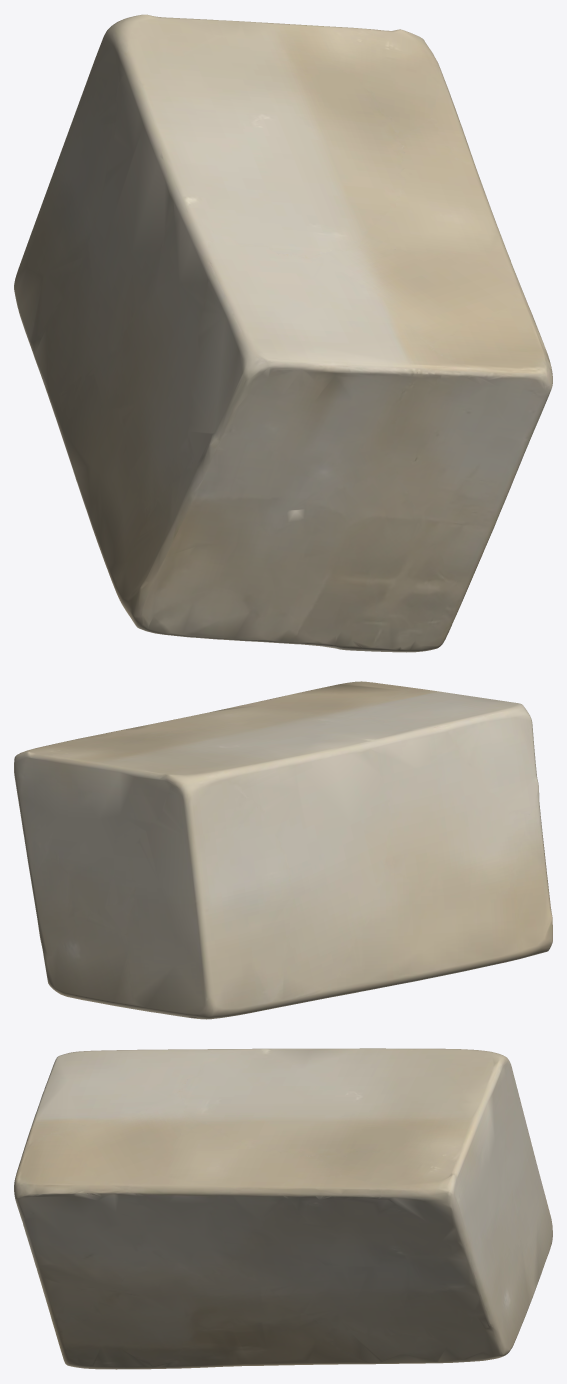
Rendered from calcite.glb.
The picture shows the model from 3 angles, top to bottom: view 1: azimuth 30°, elevation 25°; view 2: azimuth 150°, elevation 25°; view 3: azimuth 270°, elevation 25°; orthographic projection. The views are drawn at different scales.
Parts seen in each view (by area): view 1: node_0; view 2: node_0; view 3: node_0.
Part boxes in pixels (x1,y1,x2,y2): node_0: (14,14,552,652); node_0: (14,681,552,1019); node_0: (14,1048,552,1369).
Bounding box in the file's own units: 0.8704 × 0.6842 × 1.08.
1 material, 1 textured.
